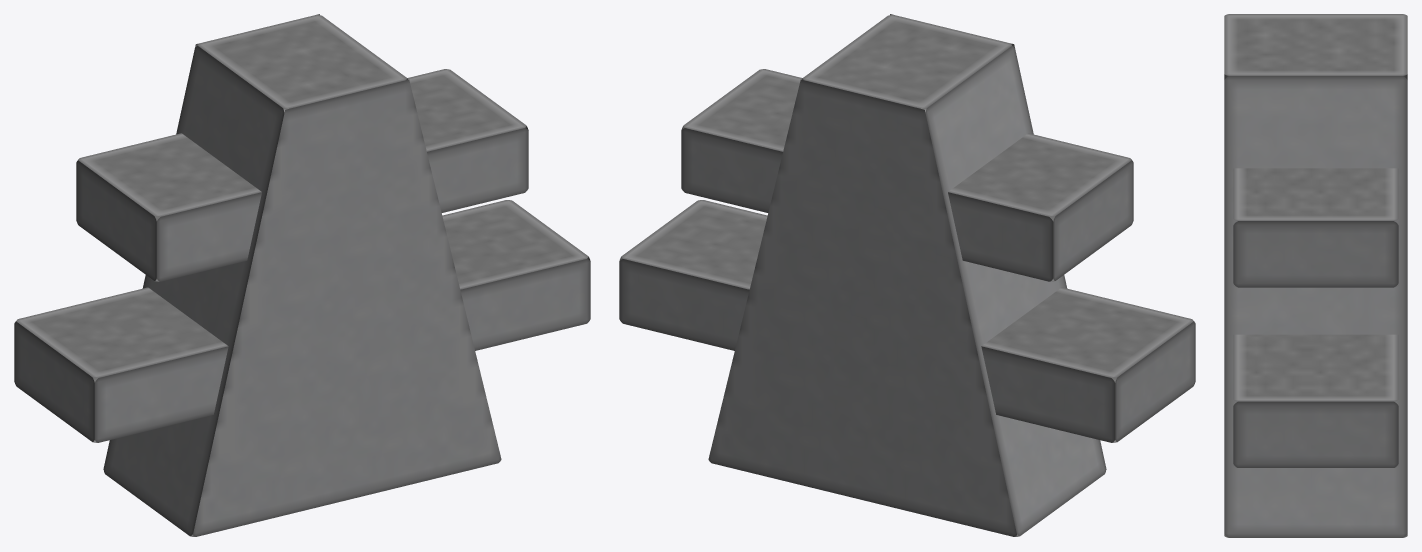
File: normal_mast.obj
3 views of the same model, side by side, from view 1: azimuth 30°, elevation 25°; view 2: azimuth 150°, elevation 25°; view 3: azimuth 270°, elevation 25° (orthographic). The views are drawn at different scales.
Visible parts, largest first — view 1: cylinder, cube, cube1; view 2: cylinder, cube, cube1; view 3: cylinder, cube, cube1.
Part boxes in pixels (left/top/right/bottom): cylinder: left=103, top=14, right=501, bottom=536; cube: left=14, top=200, right=590, bottom=442; cube1: left=76, top=69, right=528, bottom=281; cylinder: left=708, top=14, right=1106, bottom=536; cube: left=619, top=200, right=1195, bottom=442; cube1: left=681, top=69, right=1133, bottom=281; cylinder: left=1224, top=14, right=1407, bottom=537; cube: left=1233, top=334, right=1398, bottom=467; cube1: left=1233, top=168, right=1398, bottom=287.
Bounding box in the file's own units: 4 × 3.12 × 1.25.
